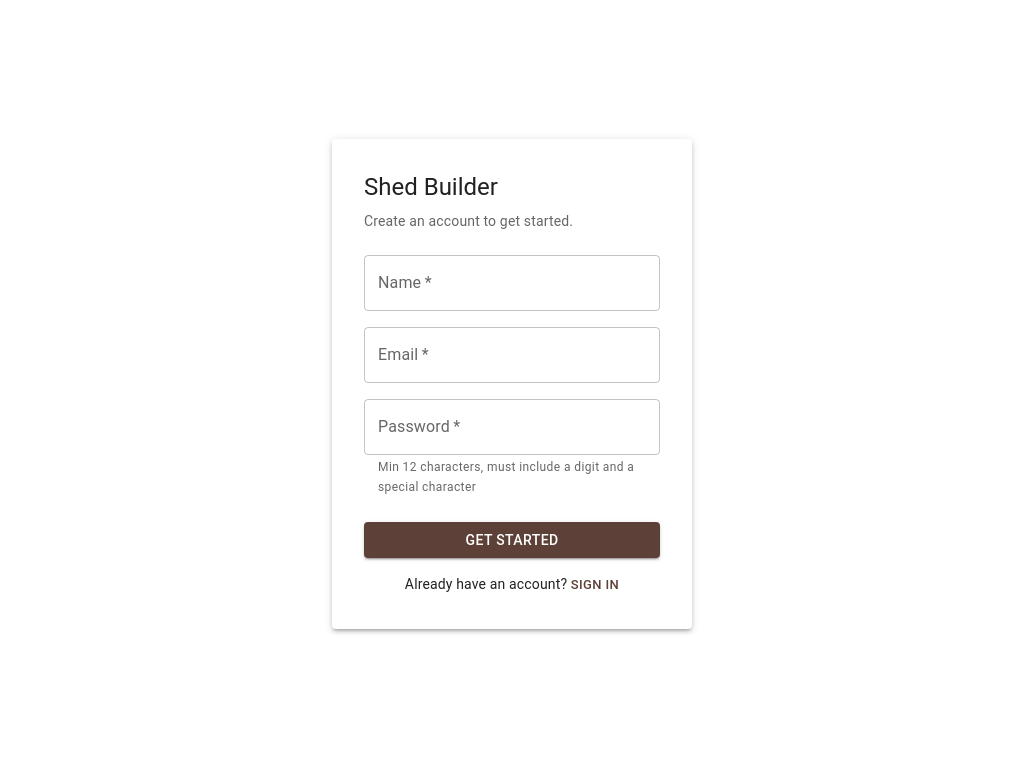
Test: App › registers successfully and shows authenticated view
The image size is (1024, 768).
Type "Jane" into the field labelled "Name *" at (512, 283), box 364,255 -> 660,311
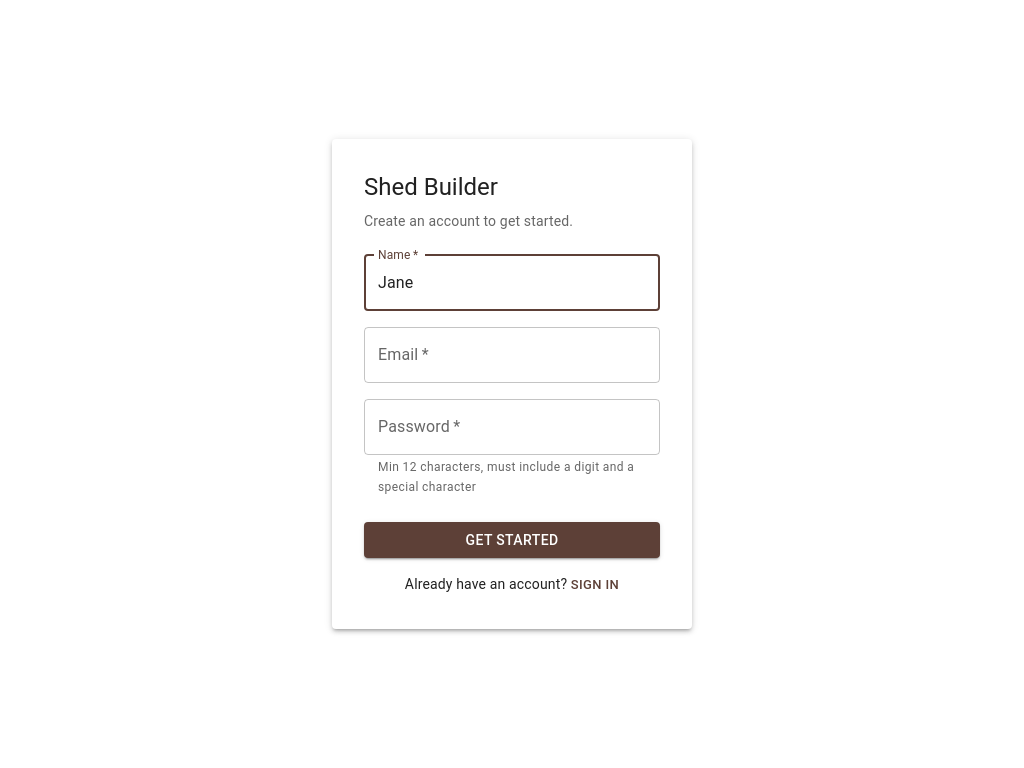
Type "jane@example.com" into the field labelled "Email *" at (512, 355), box 364,327 -> 660,383
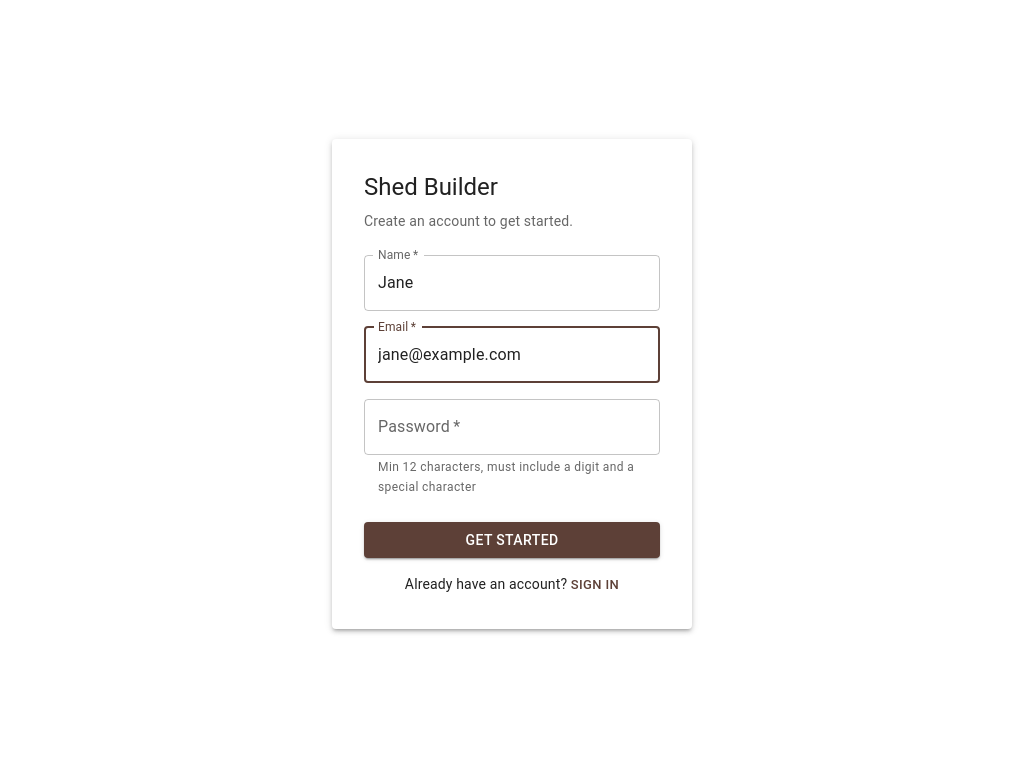
Type "Str0ng!Pass123" into the password field labelled "Password *" at (512, 427), box 364,399 -> 660,455
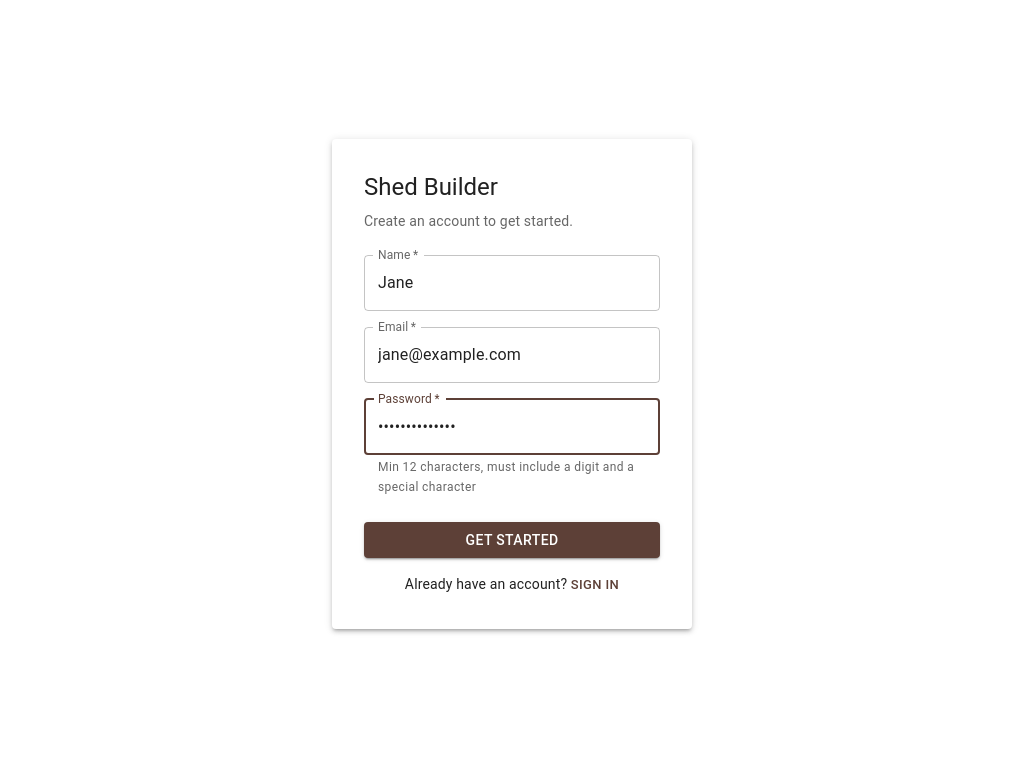
Click the button "Get Started" at (512, 540), box 364,522 -> 660,558
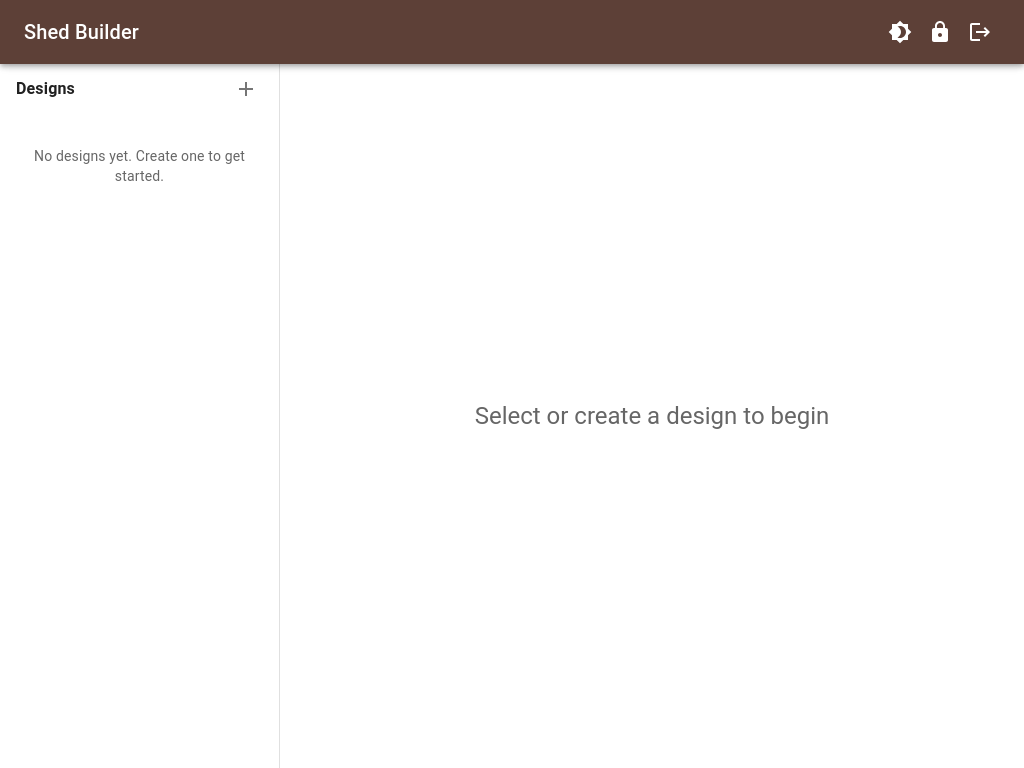
expect the heading "Select or create a design to begin" is shown: met, box 475,400 -> 829,432
